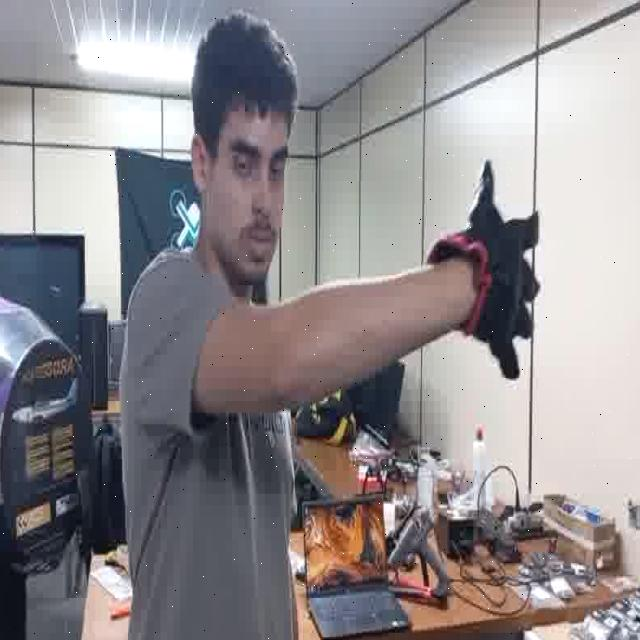Gloves: (436, 154, 543, 388)
